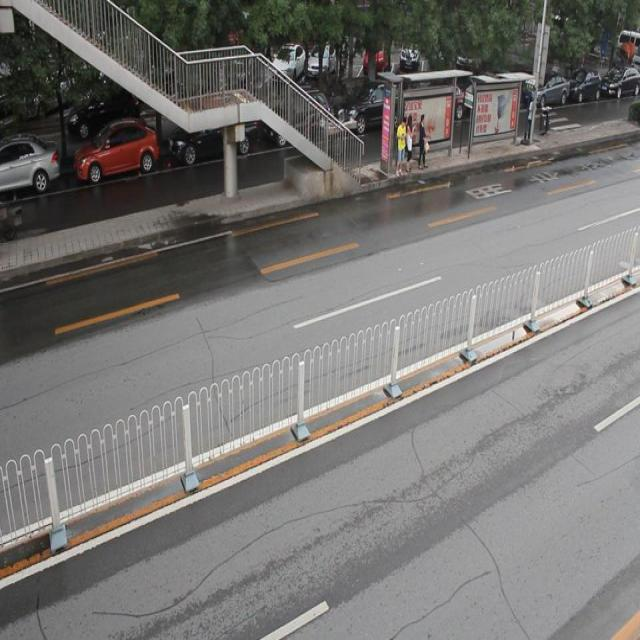car: (169, 95, 259, 162), (74, 119, 161, 183), (344, 80, 410, 135), (1, 136, 60, 197), (265, 90, 329, 146)
